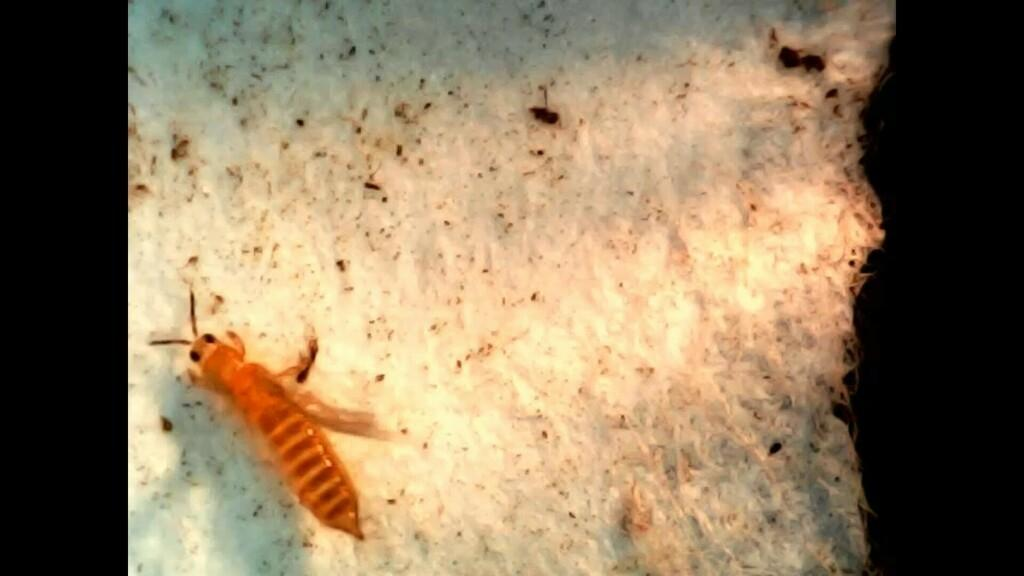tiny_pests: (124, 268, 432, 576)
